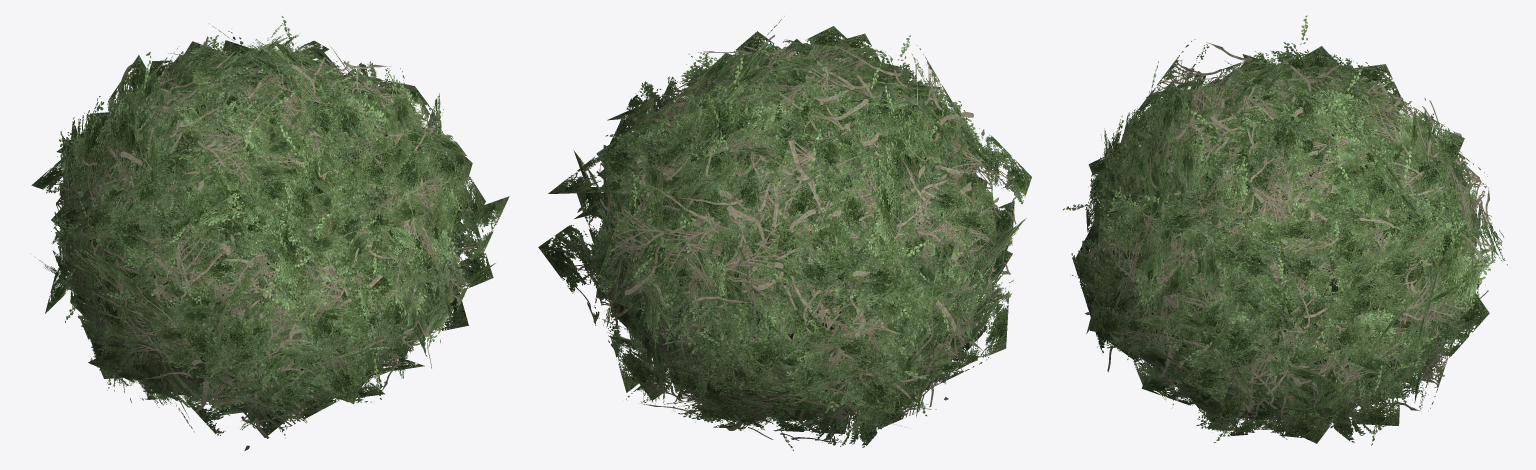
Rendered from shrub-01.glb.
3 renders of one model, left to right at view 1: azimuth 30°, elevation 25°; view 2: azimuth 150°, elevation 25°; view 3: azimuth 270°, elevation 25°, orthographic. The views are drawn at different scales.
Parts seen in each view (by area): view 1: shrub-01; view 2: shrub-01; view 3: shrub-01.
Part boxes in pixels (x1,y1,x2,y2): shrub-01: (31, 16, 509, 450); shrub-01: (538, 16, 1031, 450); shrub-01: (1063, 15, 1507, 445).
Bounding box in the file's own units: 1.35 × 1.15 × 1.4.
2 materials, 1 textured.
